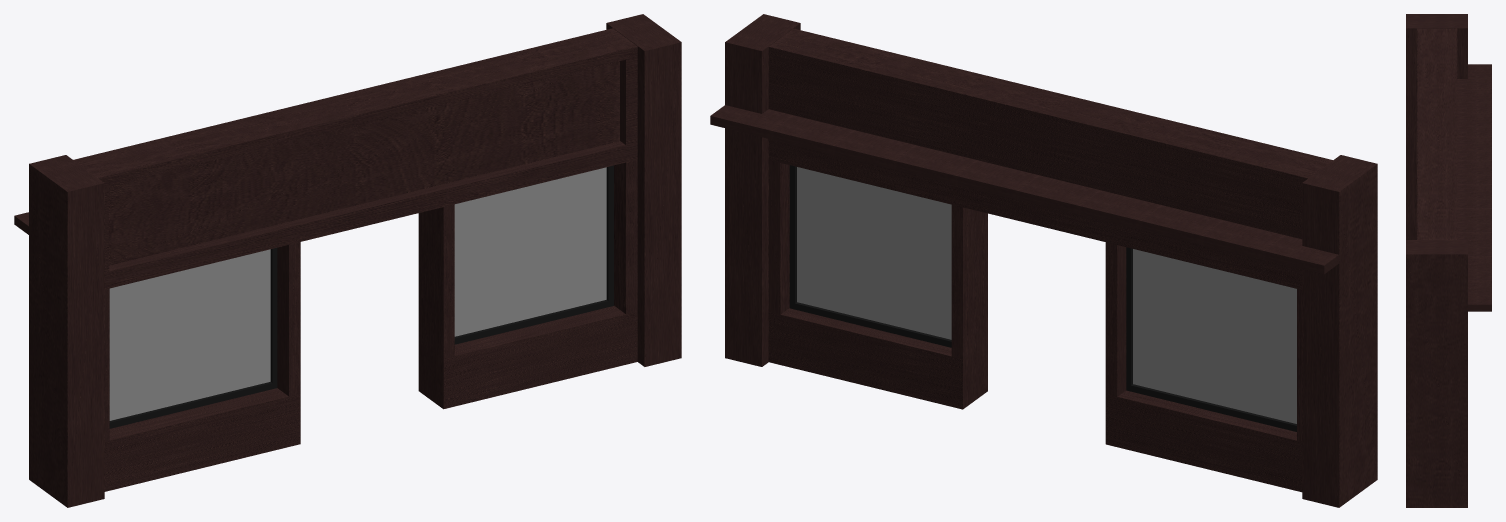
File: Wall 4.FBX
3 renders of one model, left to right at view 1: azimuth 30°, elevation 25°; view 2: azimuth 150°, elevation 25°; view 3: azimuth 270°, elevation 25°, orthographic. The views are drawn at different scales.
Visible parts, largest first — view 1: wall 4; view 2: wall 4; view 3: wall 4.
Part boxes in pixels (box(x1,y1,x2,y2)): wall 4: box(14, 14, 681, 507); wall 4: box(710, 14, 1377, 507); wall 4: box(1406, 14, 1491, 507).
Bounding box in the file's own units: 768 × 378 × 116.
4 materials, 2 textured.
